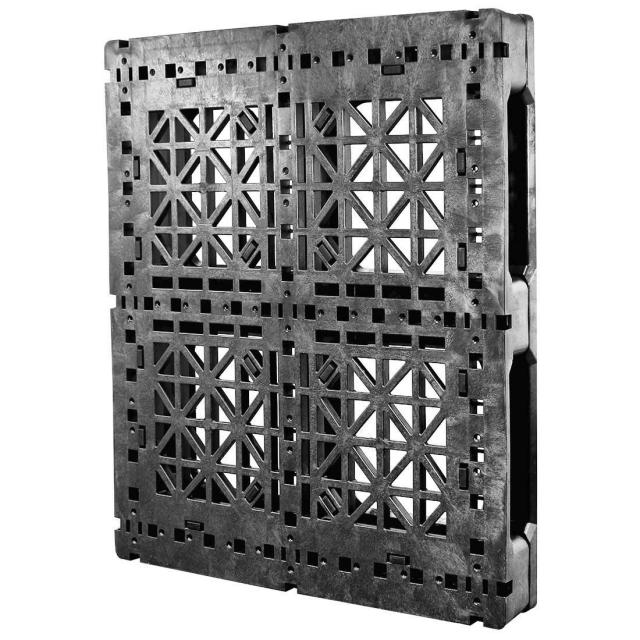non-igps: (95, 0, 560, 636)
